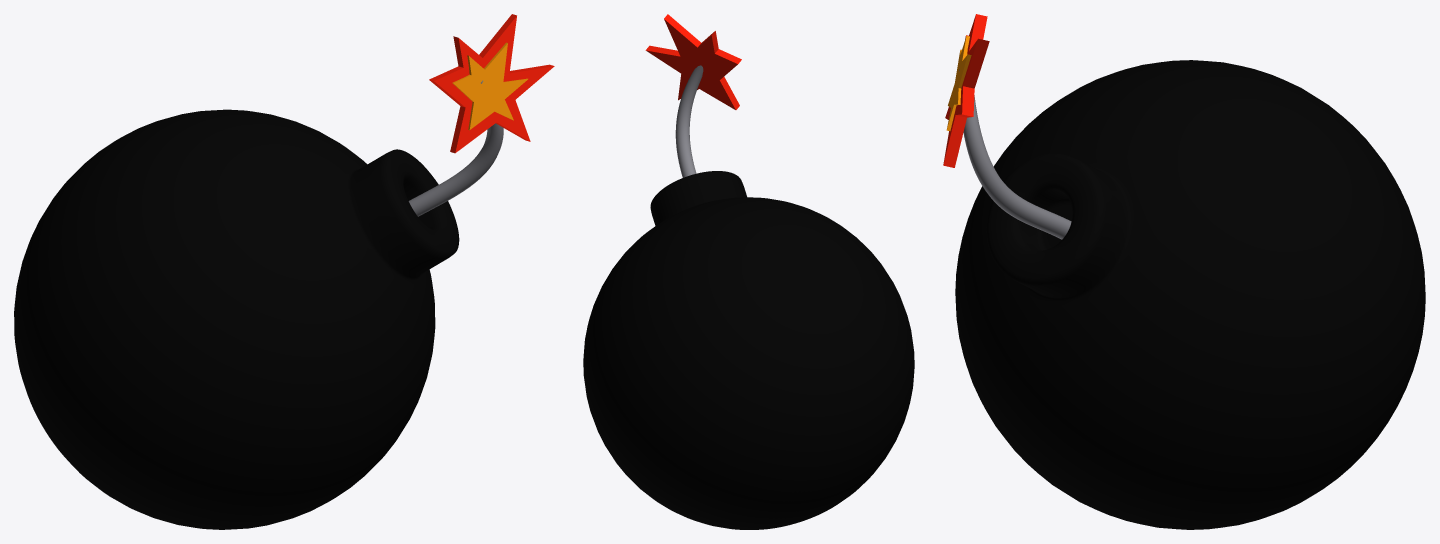
The model's file is Bomb.fbx.
The picture shows the model from 3 angles, left to right: view 1: azimuth 30°, elevation 25°; view 2: azimuth 150°, elevation 25°; view 3: azimuth 270°, elevation 25°; orthographic projection. The views are drawn at different scales.
Parts seen in each view (by area): view 1: Plane.004; view 2: Plane.004; view 3: Plane.004.
Part boxes in pixels (x1,y1,x2,y2): Plane.004: (14, 14, 554, 529); Plane.004: (583, 14, 914, 529); Plane.004: (943, 14, 1425, 529).
Size of the model in its own units: 223 by 268 by 203.
